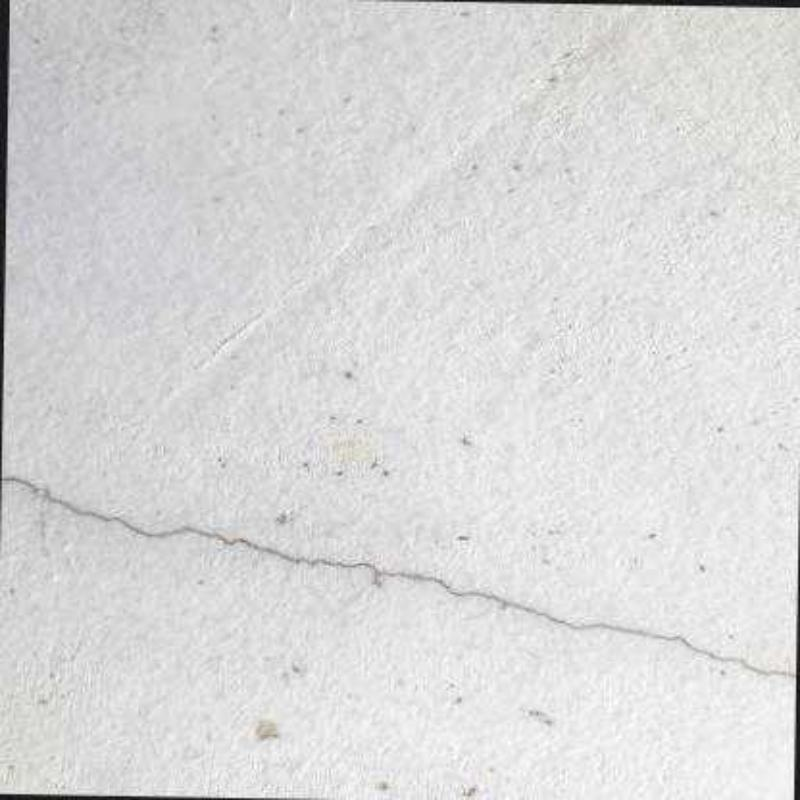crack: (41, 482, 795, 678), (0, 474, 38, 493)
